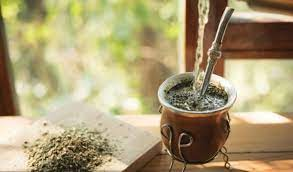mate: (157, 71, 238, 166)
